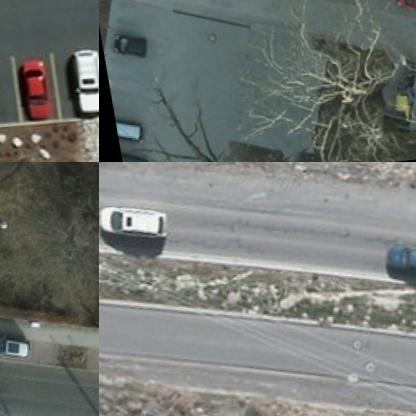car: (99, 198, 167, 240), (64, 44, 98, 115), (14, 57, 52, 120), (379, 234, 415, 280), (106, 31, 146, 64), (0, 329, 27, 361), (110, 119, 140, 146), (386, 0, 415, 19)
